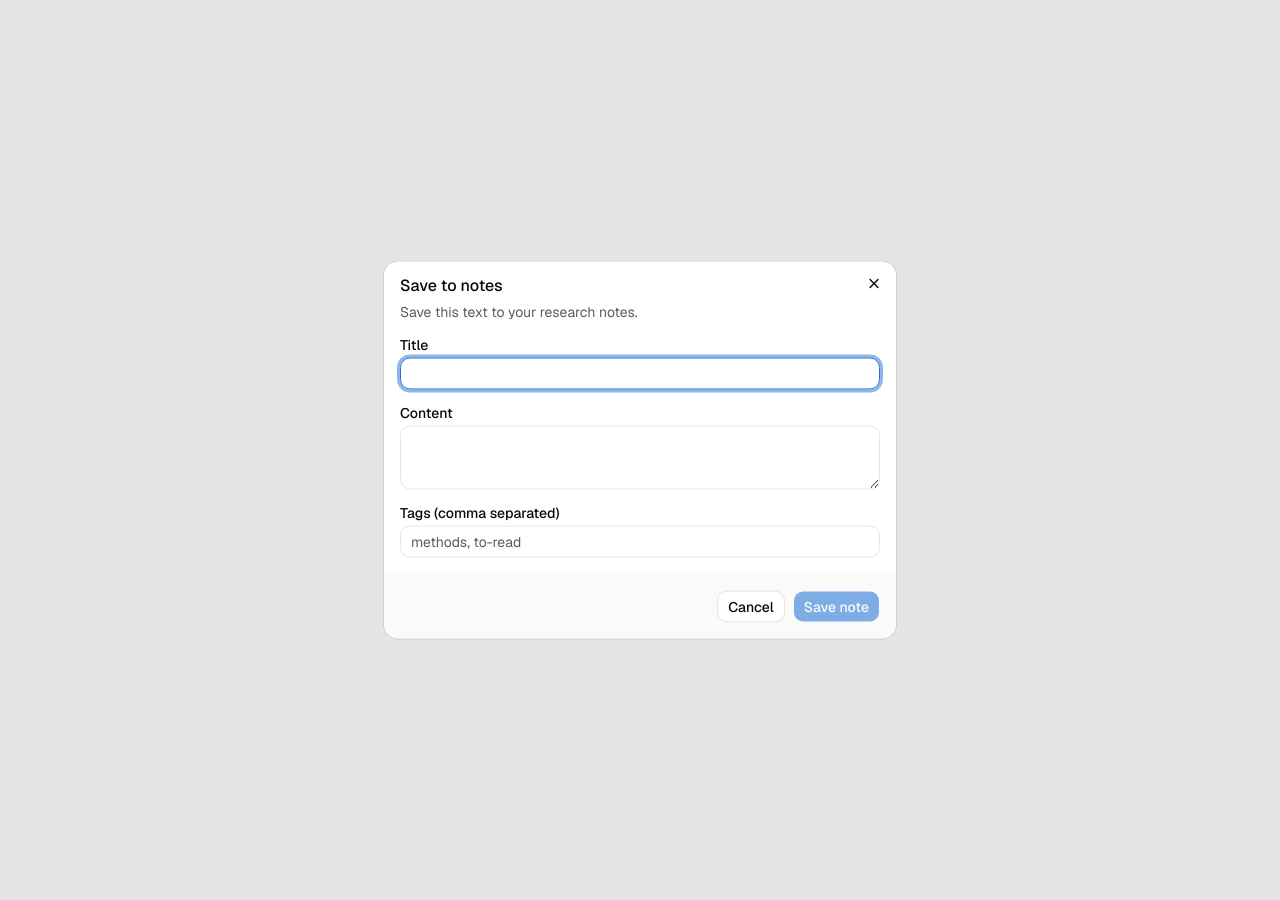
Test: SaveNoteDialog › disables saving until title and content are present
The width and height of the screenshot is (1280, 900).
Check: the button with test id "note-save" is disabled, box [793,590,880,622]
Type "T" into the field with test id "note-title" at x=640, y=374, box [400,358,880,390]
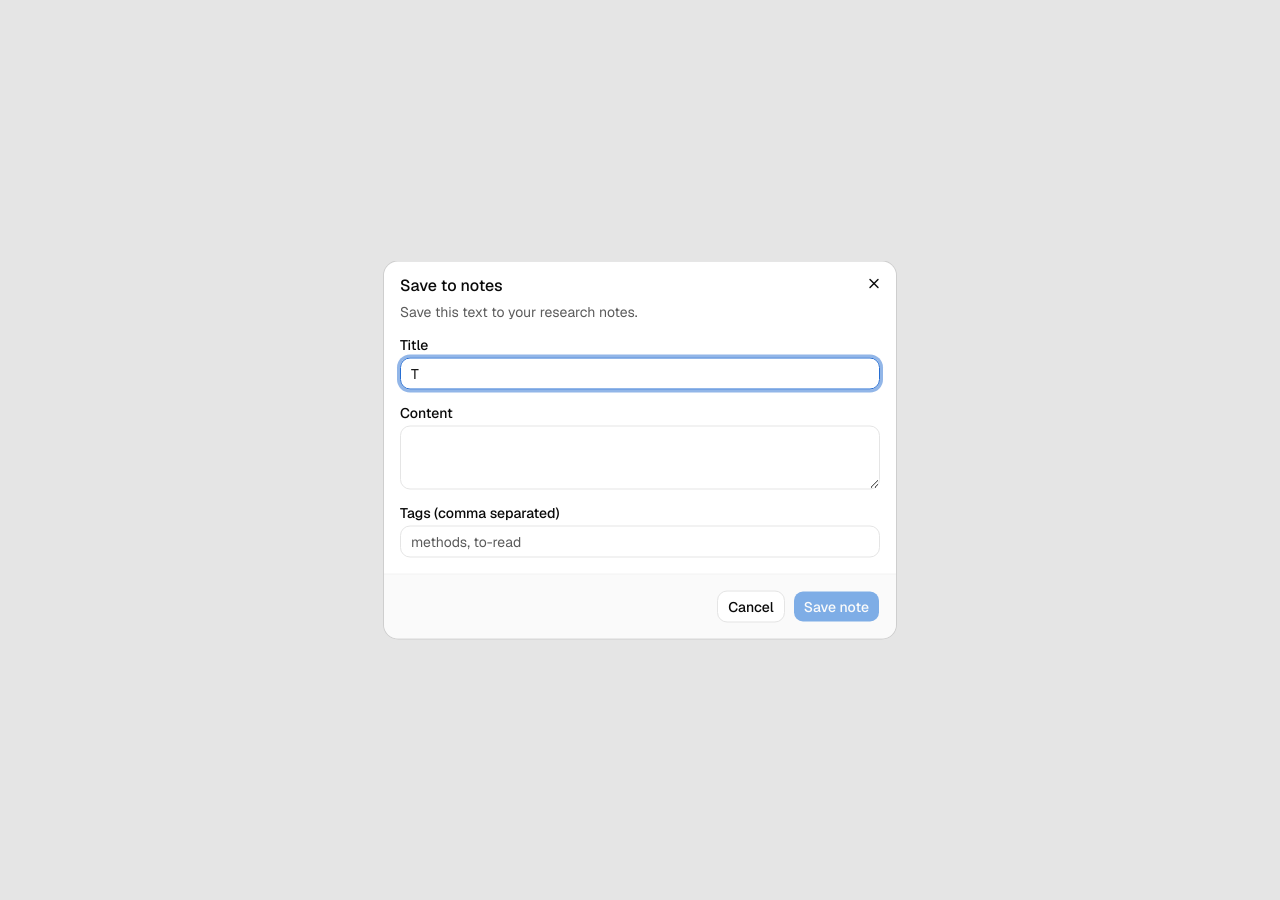
Check: the button with test id "note-save" is disabled, box [793,590,880,622]
Type "Body" into the text box with test id "note-content" at x=640, y=458, box [400,426,880,490]
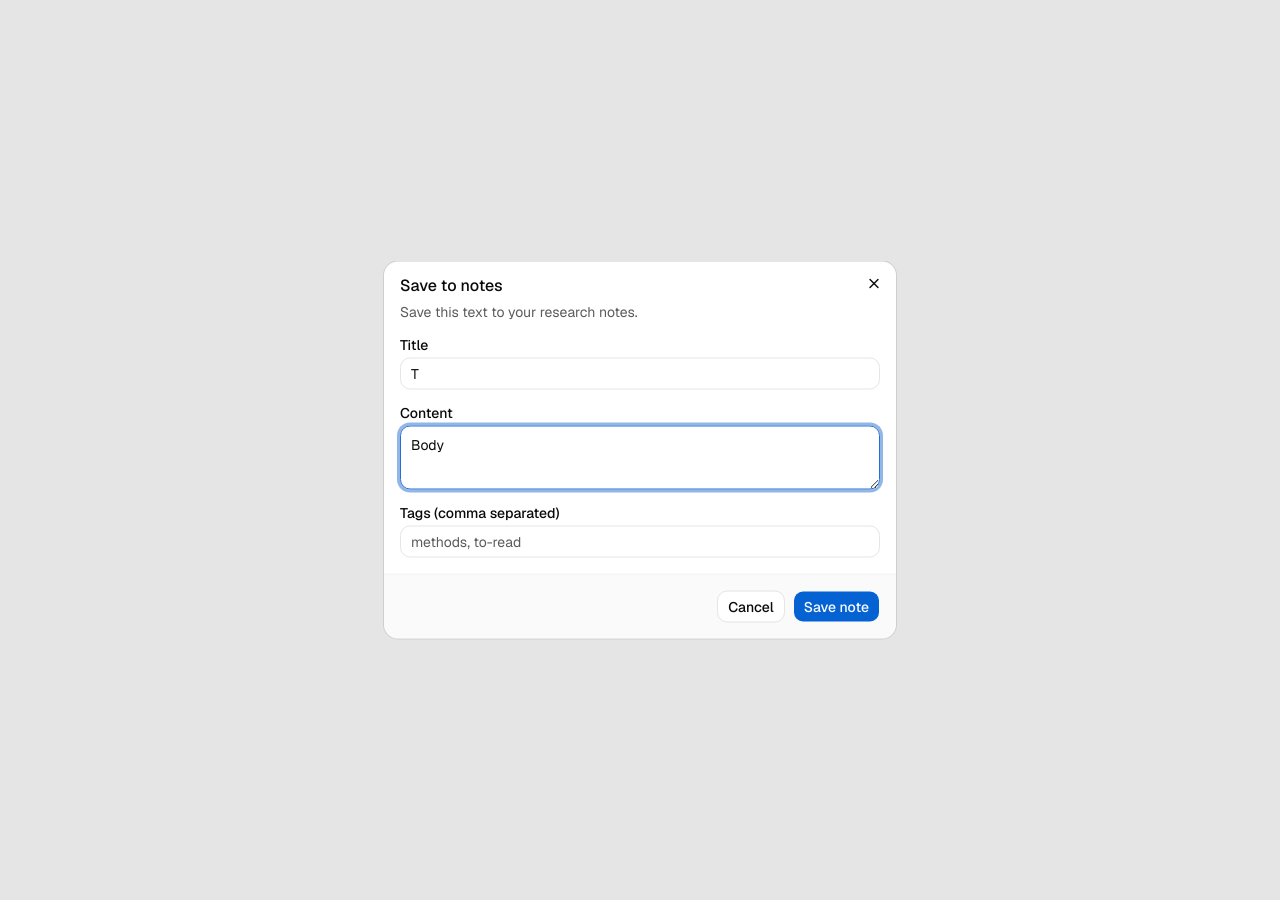
Check: the button with test id "note-save" is enabled, box [793,590,880,622]
